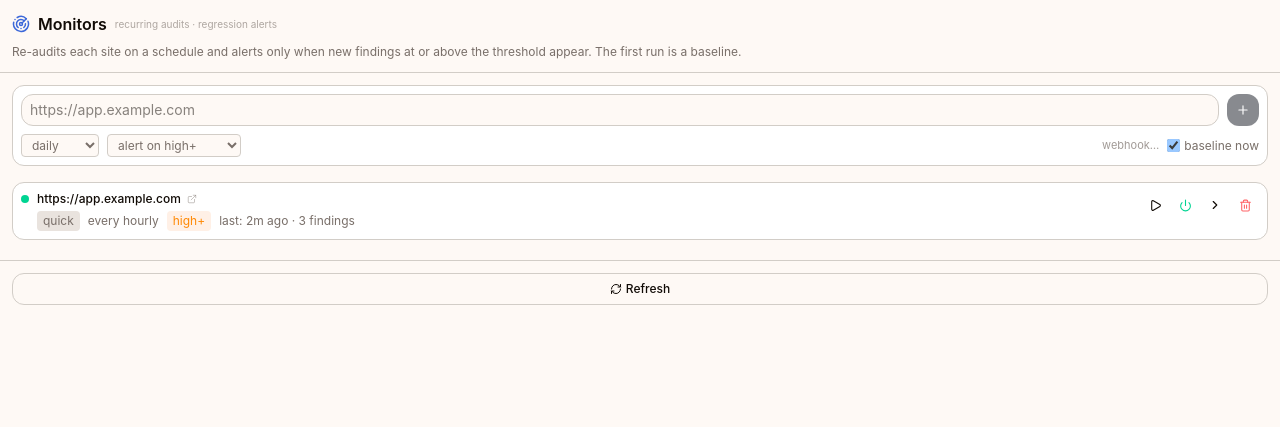
MonitorsPanel › expands run history with baseline and delta badges
Check: the text "https://app.example.com" is shown, box [37,191,181,207]
Click the button named "Toggle run history for monitor 1".
click(1215, 205)  # box [1201,191,1229,219]
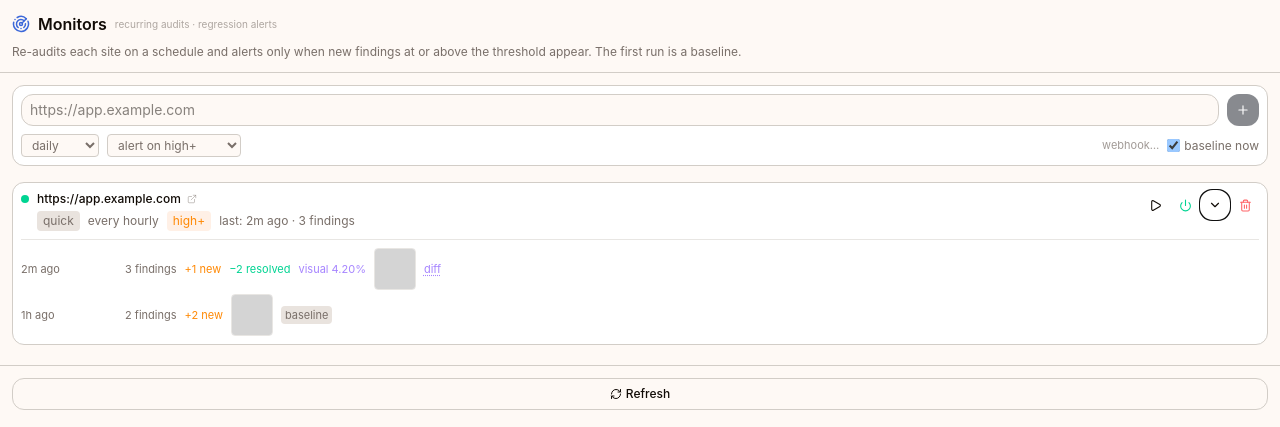
Check: the text "+1 new" is shown, box [185,262,221,276]
Check: the text "−2 resolved" is shown, box [229,262,290,276]
Check: the text "visual 4.20%" is shown, box [298,262,366,276]
